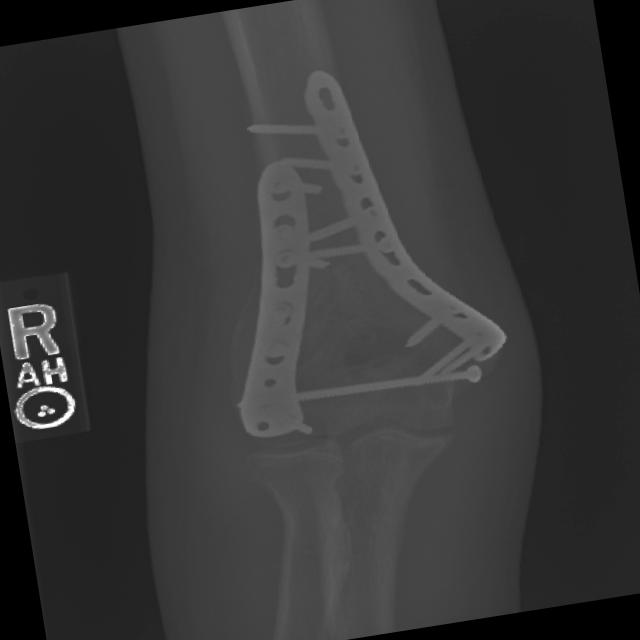elbow positive: (252, 184, 411, 359)
